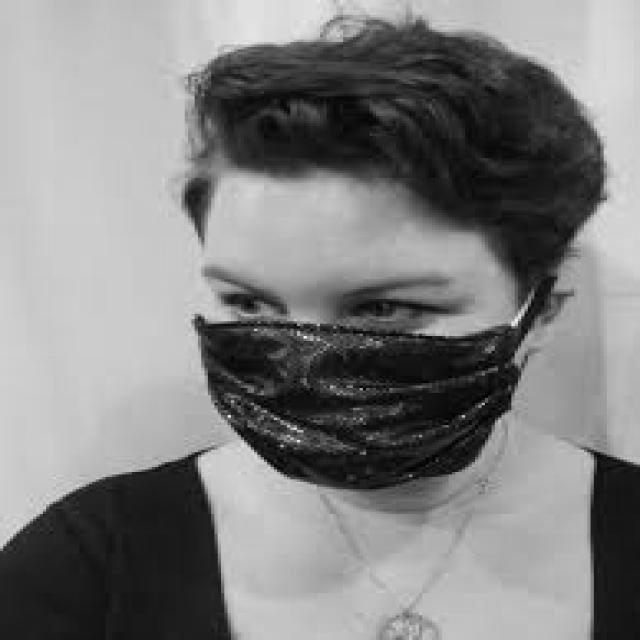fake: (190, 314, 529, 506)
real: (194, 169, 524, 500)
